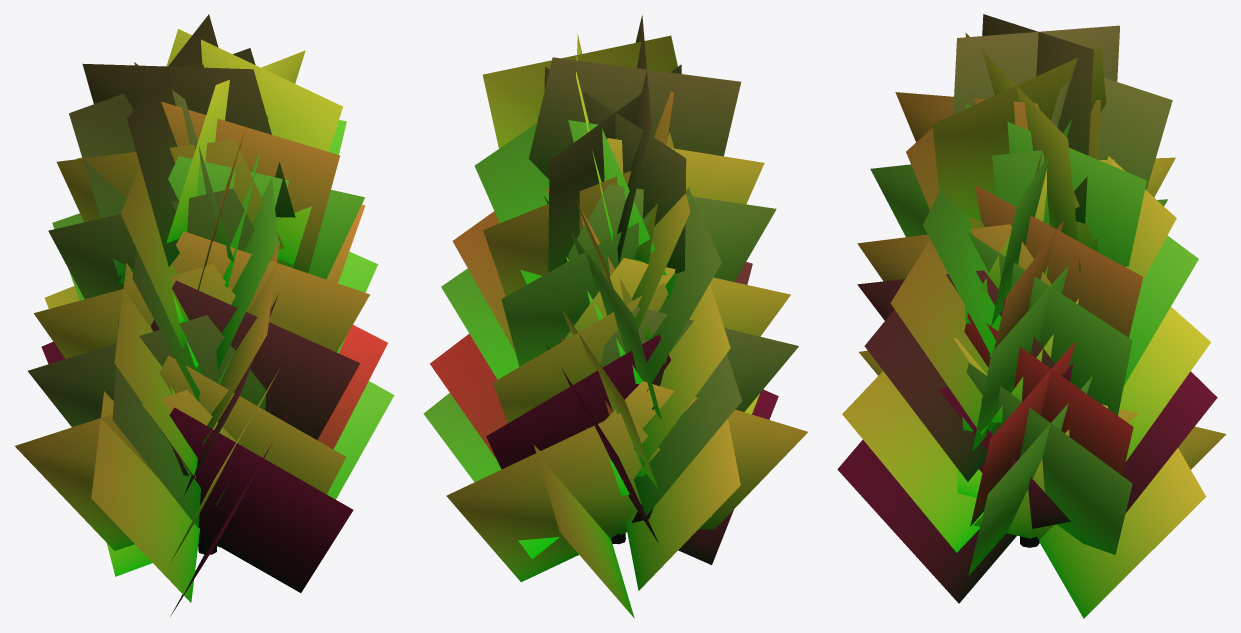
File: Tree_14.fbx
The picture shows the model from 3 angles, left to right: view 1: azimuth 30°, elevation 25°; view 2: azimuth 150°, elevation 25°; view 3: azimuth 270°, elevation 25°; orthographic projection. The views are drawn at different scales.
Visible parts, largest first — view 1: Tree_14; view 2: Tree_14; view 3: Tree_14.
Part boxes in pixels (bbox=[...]): Tree_14: bbox=[15, 14, 394, 616]; Tree_14: bbox=[423, 15, 807, 618]; Tree_14: bbox=[837, 14, 1226, 618].
Bounding box in the file's own units: 1159 × 1855 × 1188.
